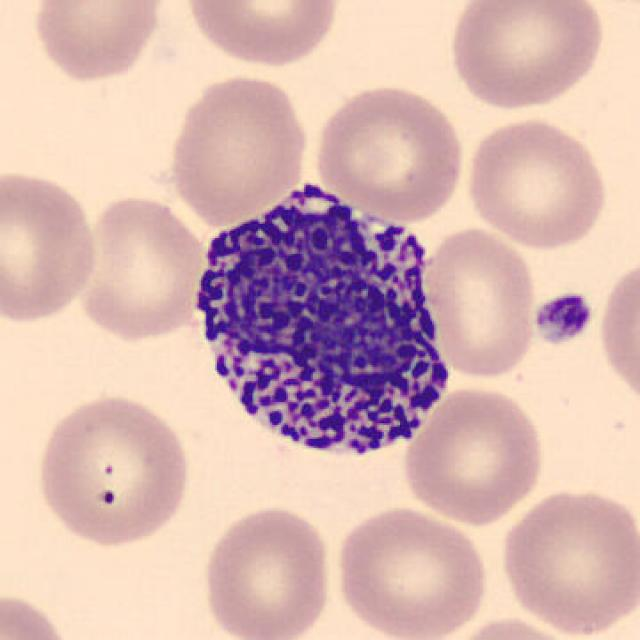Basophil: (180, 169, 466, 482)
Platelets: (530, 289, 597, 347)
RBC: (30, 390, 196, 550), (163, 70, 313, 226), (311, 79, 468, 222), (330, 502, 492, 640), (400, 381, 549, 527), (496, 483, 636, 638), (462, 115, 612, 252), (75, 190, 208, 344), (197, 500, 335, 640), (420, 224, 540, 381), (444, 0, 610, 113), (0, 166, 103, 326), (26, 0, 170, 86), (181, 0, 345, 69), (595, 252, 640, 416), (0, 587, 78, 640), (439, 613, 585, 640), (576, 0, 640, 19)
